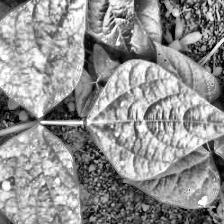Bean Rust: (84, 59, 224, 178), (0, 114, 90, 224), (0, 0, 85, 115)
